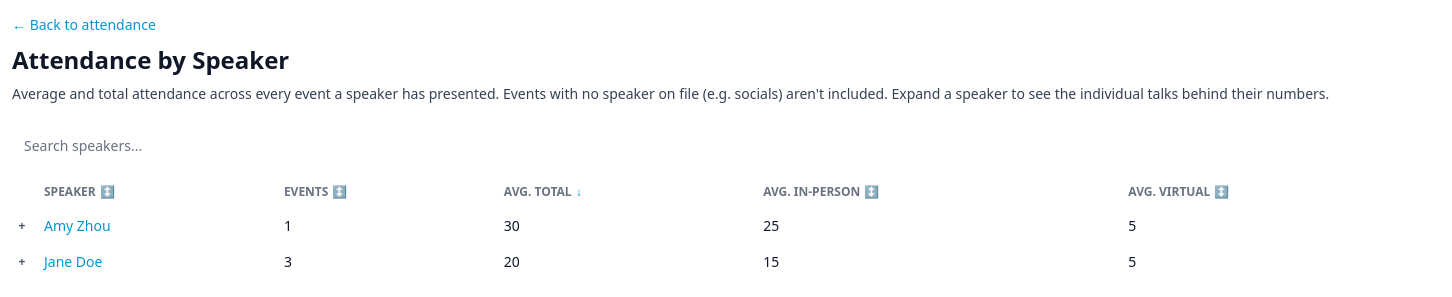
Test: AttendanceBySpeakerPage › shows a no-match message when the search matches nothing
Check: the table is shown, box [12, 176, 1451, 280]
Type "nonexistent" into the field with placeholder "Search speakers...". click: (172, 146)
box: [12, 128, 332, 164]
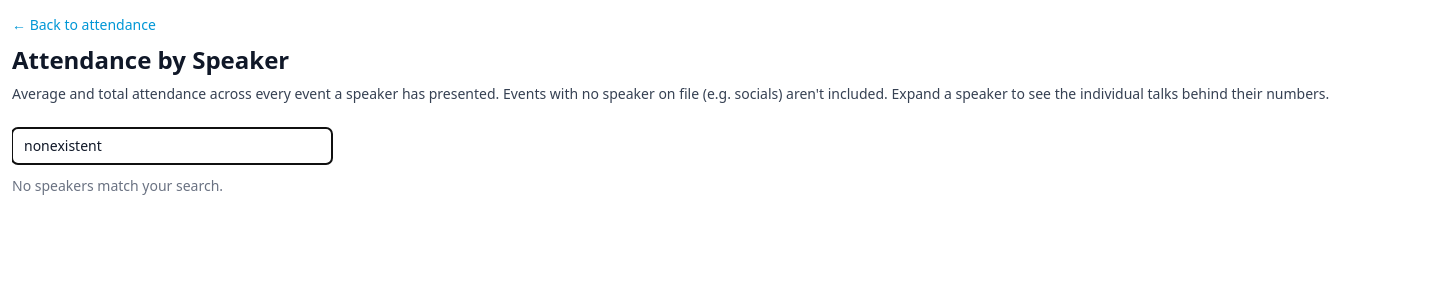
Check: the text "No speakers match your search." is shown, box [12, 176, 223, 195]
